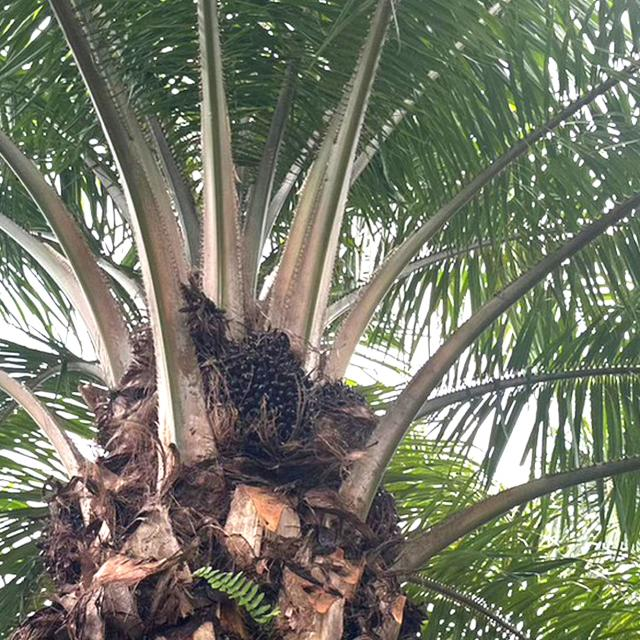unripe: (216, 324, 324, 466)
